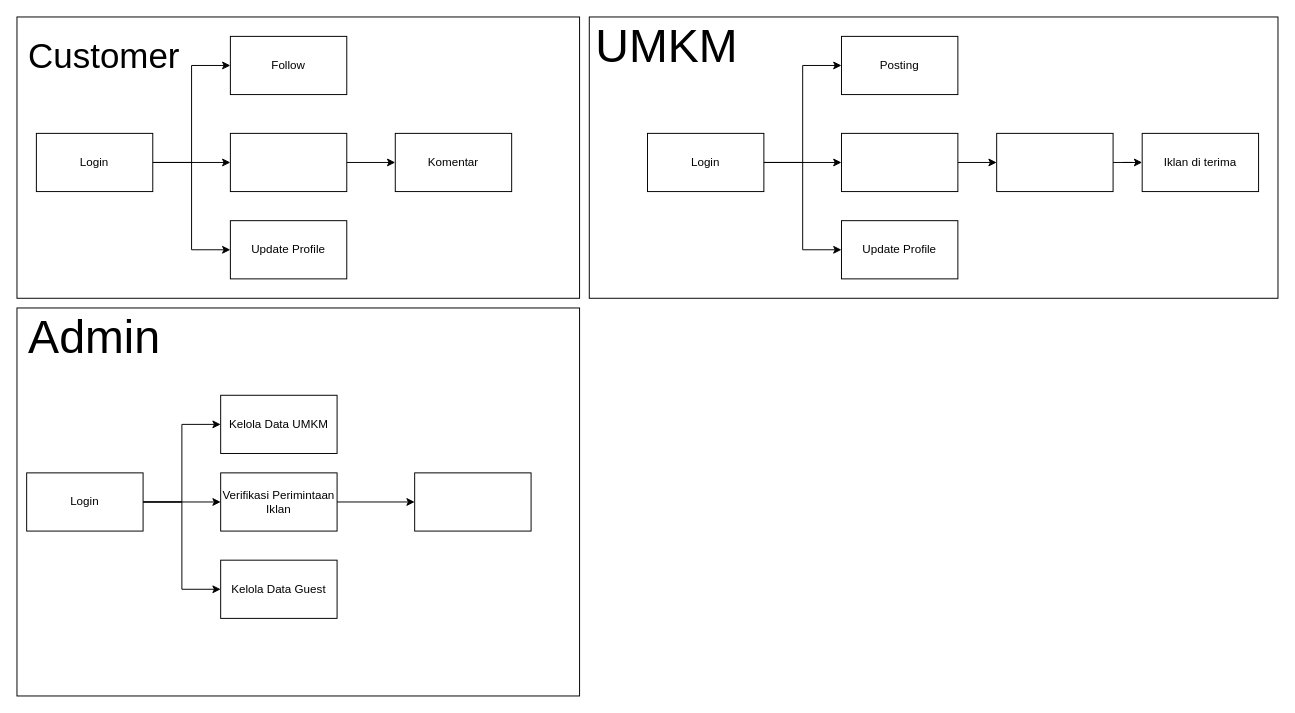
The diagram is 1295 pixels wide and 713 high, and some of its shapes have lost their labels. The shapes that lost their labels are listed below. From the top down, each one's box as (x1, y1, x2, y2) in pixels, then its label:
(229, 132, 347, 192): Lihat Postingan
(841, 132, 958, 192): Request Iklan
(996, 132, 1113, 192): Request di terima
(414, 472, 531, 531): Iklan di tampilkan
